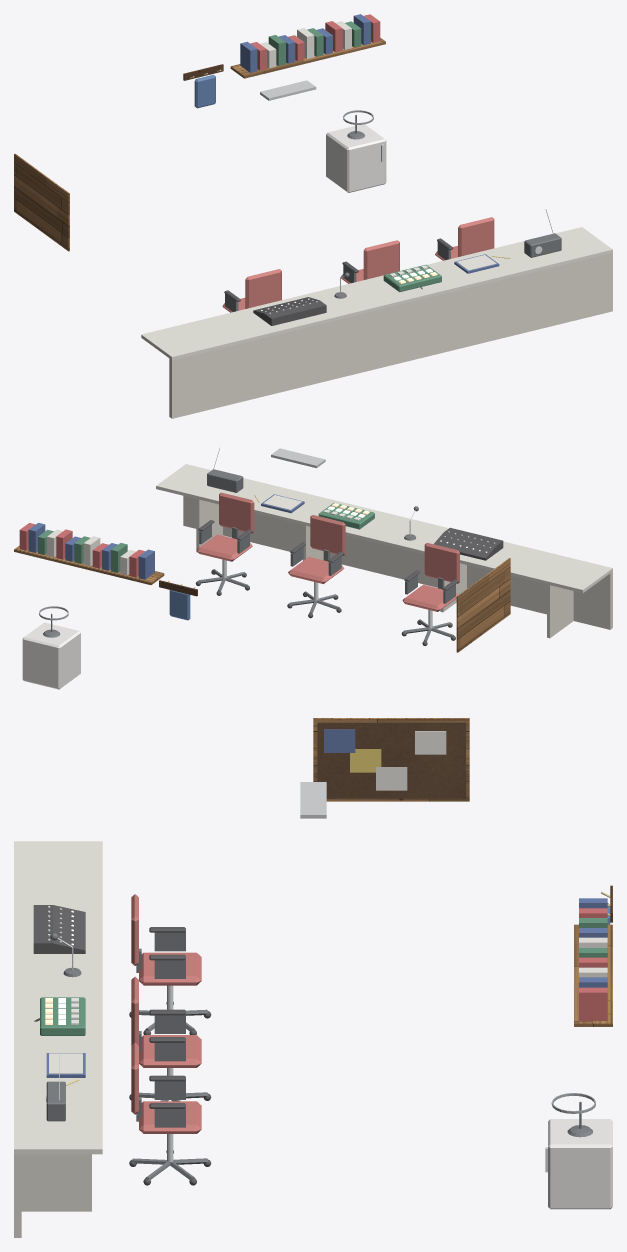
The model's file is press_box.glb.
3 views of the same model, one above another, from view 1: azimuth 30°, elevation 25°; view 2: azimuth 150°, elevation 25°; view 3: azimuth 270°, elevation 25° (orthographic). The views are drawn at different scales.
Visible parts, largest first — view 1: press_box_counter, press_box_ctop, press_box_wood, press_box_vinyl_r, press_box_enamel, press_box_paint_g, press_box_flag_b, press_box_dark, press_box_steel_d, press_box_paper, press_box_flag_r, press_box_helmet_b (+1 smaller); view 2: press_box_counter, press_box_ctop, press_box_vinyl_r, press_box_wood, press_box_steel_d, press_box_enamel, press_box_dark, press_box_flag_b, press_box_paint_g, press_box_paper, press_box_flag_r, press_box_helmet_b (+2 smaller); view 3: press_box_ctop, press_box_mulch, press_box_steel_d, press_box_enamel, press_box_vinyl_r, press_box_counter, press_box_dark, press_box_wood, press_box_paper, press_box_flag_b, press_box_paint_g, press_box_flag_r (+3 smaller).
Boxes of the visible parts, bbox=[...] form: press_box_counter: bbox=[169, 253, 612, 418]; press_box_ctop: bbox=[141, 227, 612, 360]; press_box_wood: bbox=[14, 38, 385, 251]; press_box_vinyl_r: bbox=[222, 217, 494, 312]; press_box_enamel: bbox=[326, 124, 386, 192]; press_box_paint_g: bbox=[268, 21, 441, 292]; press_box_flag_b: bbox=[240, 14, 499, 273]; press_box_dark: bbox=[224, 238, 453, 325]; press_box_steel_d: bbox=[225, 114, 561, 311]; press_box_paper: bbox=[260, 21, 496, 270]; press_box_flag_r: bbox=[250, 14, 380, 70]; press_box_helmet_b: bbox=[194, 74, 215, 108]; press_box_counter: bbox=[183, 496, 612, 638]; press_box_ctop: bbox=[156, 464, 612, 592]; press_box_vinyl_r: bbox=[196, 492, 459, 611]; press_box_wood: bbox=[14, 545, 510, 652]; press_box_steel_d: bbox=[43, 469, 455, 641]; press_box_enamel: bbox=[22, 622, 80, 689]; press_box_dark: bbox=[195, 520, 503, 645]; press_box_flag_b: bbox=[28, 494, 304, 579]; press_box_paint_g: bbox=[38, 503, 374, 572]; press_box_paper: bbox=[47, 495, 301, 575]; press_box_flag_r: bbox=[19, 523, 145, 577]; press_box_helmet_b: bbox=[169, 590, 190, 620]; press_box_ctop: bbox=[14, 841, 102, 1154]; press_box_mulch: bbox=[317, 722, 465, 798]; press_box_steel_d: bbox=[46, 932, 592, 1179]; press_box_enamel: bbox=[548, 1119, 612, 1209]; press_box_vinyl_r: bbox=[131, 894, 201, 1133]; press_box_counter: bbox=[14, 1154, 91, 1237]; press_box_dark: bbox=[33, 905, 211, 1185]; press_box_wood: bbox=[313, 718, 612, 1026]; press_box_paper: bbox=[49, 731, 607, 1073]; press_box_flag_b: bbox=[46, 729, 607, 1077]; press_box_paint_g: bbox=[40, 918, 607, 1035]; press_box_flag_r: bbox=[579, 908, 607, 1020].
Size of the model in its own units: 5.6 by 2.42 by 4.6.
Materials: 25 (3 with a texture image).
